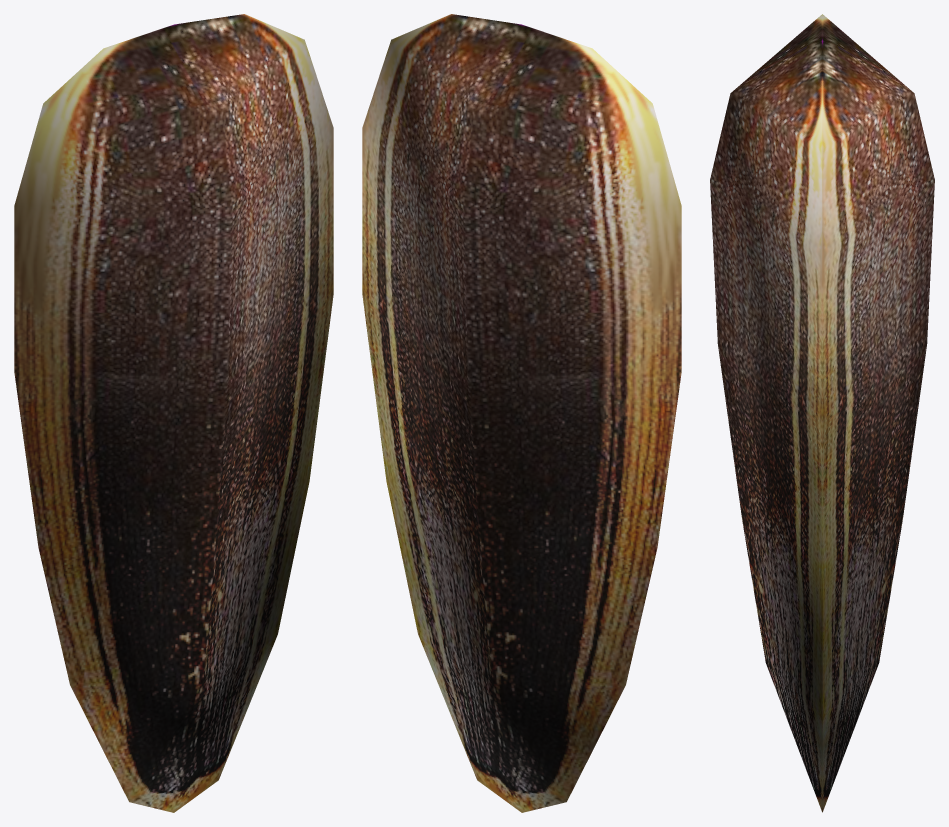
Rendered from sunflower_001.FBX.
3 renders of one model, left to right at view 1: azimuth 30°, elevation 25°; view 2: azimuth 150°, elevation 25°; view 3: azimuth 270°, elevation 25°, orthographic. The views are drawn at different scales.
Parts seen in each view (by area): view 1: Sun_flower_001; view 2: Sun_flower_001; view 3: Sun_flower_001.
Part boxes in pixels (x1,y1,x2,y2): Sun_flower_001: [14, 14, 333, 812]; Sun_flower_001: [362, 14, 681, 812]; Sun_flower_001: [710, 14, 934, 812].
Bounding box in the file's own units: 34.22 × 80.81 × 21.35.
